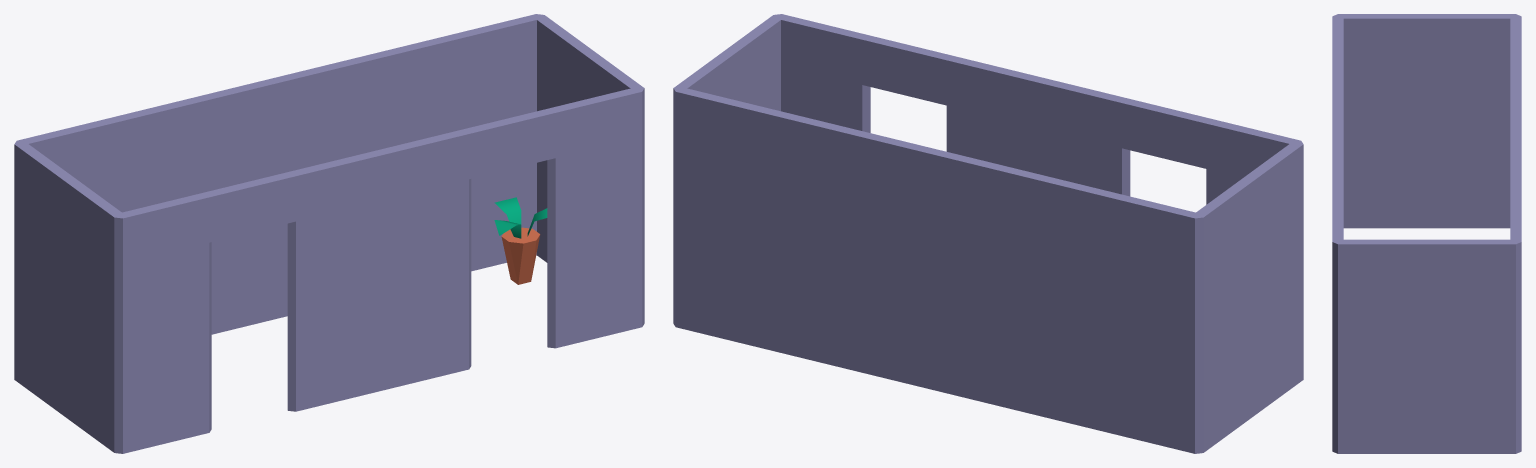
Rendered from Section1_2.obj.
The picture shows the model from 3 angles, left to right: view 1: azimuth 30°, elevation 25°; view 2: azimuth 150°, elevation 25°; view 3: azimuth 270°, elevation 25°; orthographic projection. The views are drawn at different scales.
Parts seen in each view (by area): view 1: mergedBlocks; view 2: mergedBlocks; view 3: mergedBlocks.
Part boxes in pixels (x1,y1,x2,y2): mergedBlocks: (14, 14, 644, 453); mergedBlocks: (673, 14, 1303, 453); mergedBlocks: (1332, 14, 1521, 453).
Bounding box in the file's own units: 6.13 × 2.6 × 2.12.
